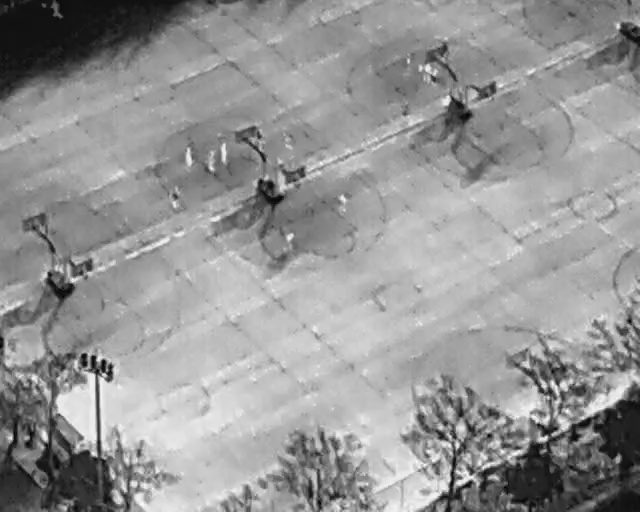Person: (48, 0, 65, 20), (279, 132, 296, 152), (421, 63, 433, 84), (183, 144, 193, 168), (207, 149, 217, 173), (219, 141, 229, 165), (171, 184, 181, 208), (337, 194, 348, 213), (430, 67, 440, 83), (285, 231, 294, 247), (256, 129, 264, 143), (404, 51, 411, 66), (416, 64, 425, 72)
